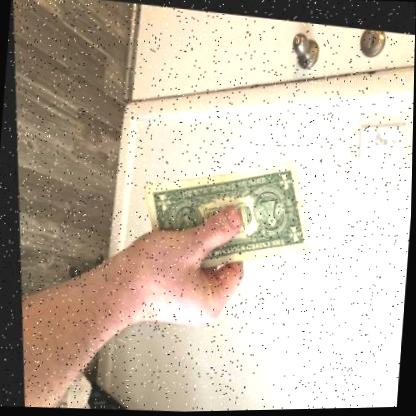one-back: (140, 158, 308, 270)
